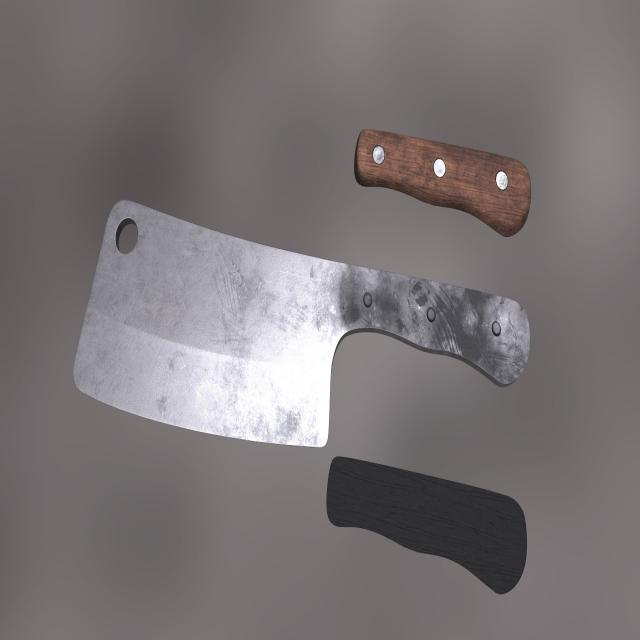cleaver: (70, 198, 530, 437)
